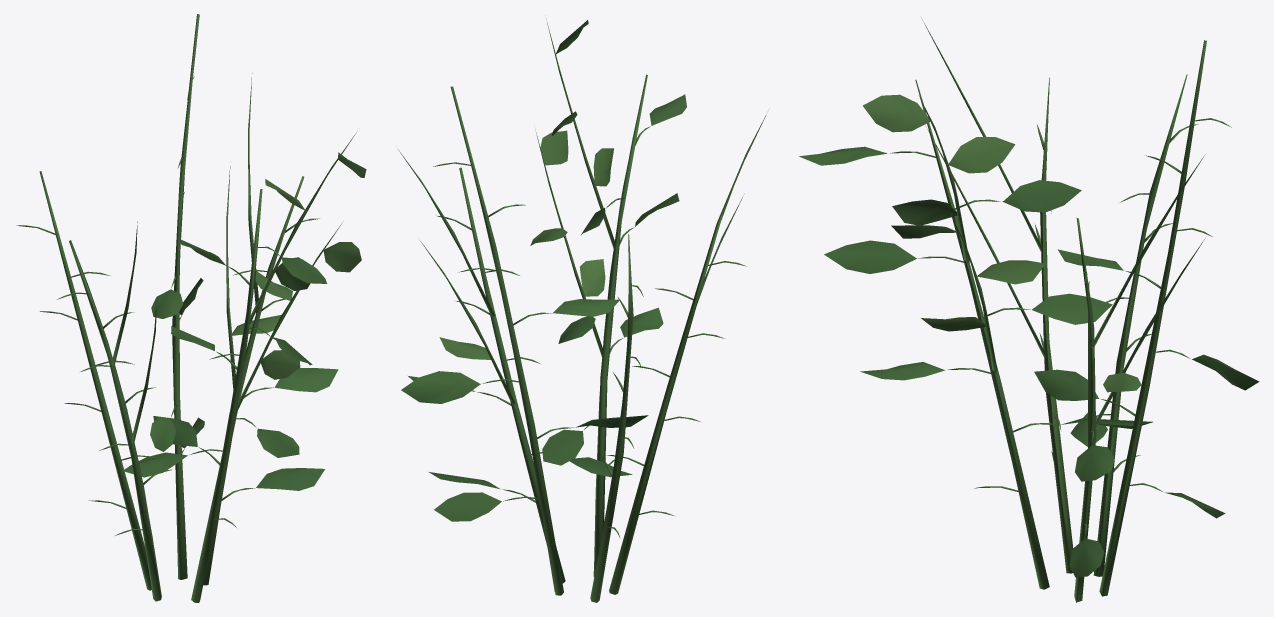
The model's file is Fragon_0_Niveau1.fbx.
3 renders of one model, left to right at view 1: azimuth 30°, elevation 25°; view 2: azimuth 150°, elevation 25°; view 3: azimuth 270°, elevation 25°, orthographic. The views are drawn at different scales.
Visible parts, largest first — view 1: Fragon_0_Niveau1; view 2: Fragon_0_Niveau1; view 3: Fragon_0_Niveau1.
Boxes of the visible parts, x1=… form: Fragon_0_Niveau1: x1=16, y1=14, x2=366, y2=602; Fragon_0_Niveau1: x1=398, y1=19, x2=766, y2=602; Fragon_0_Niveau1: x1=799, y1=18, x2=1259, y2=602.
Size of the model in its own units: 25.01 by 40.04 by 28.46.
